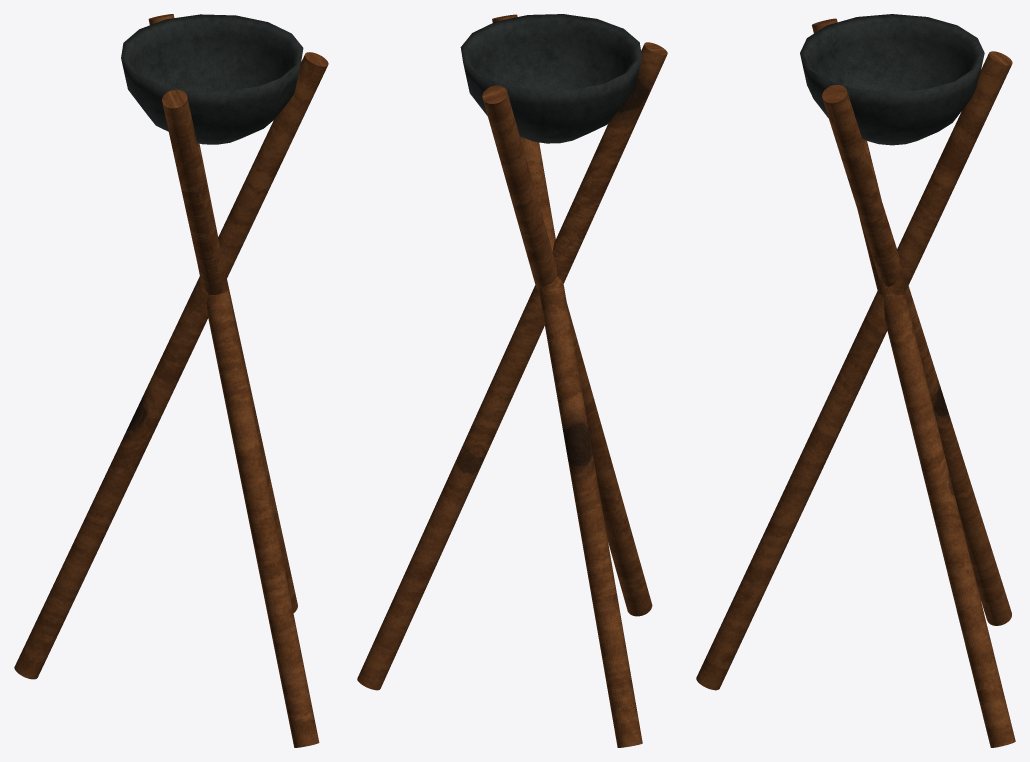
Rendered from taimatsu 2.fbx.
The picture shows the model from 3 angles, left to right: view 1: azimuth 30°, elevation 25°; view 2: azimuth 150°, elevation 25°; view 3: azimuth 270°, elevation 25°; orthographic projection.
Visible parts, largest first — view 1: Cylinder, Sphere; view 2: Cylinder, Sphere; view 3: Cylinder, Sphere.
Part boxes in pixels (x1=…): Cylinder: x1=14, y1=14, x2=328, y2=747; Sphere: x1=121, y1=14, x2=303, y2=144; Cylinder: x1=357, y1=14, x2=667, y2=747; Sphere: x1=460, y1=14, x2=641, y2=143; Cylinder: x1=696, y1=18, x2=1015, y2=747; Sphere: x1=800, y1=14, x2=984, y2=145.
Bounding box in the file's own units: 569 × 1217 × 556.
2 materials, 2 textured.
